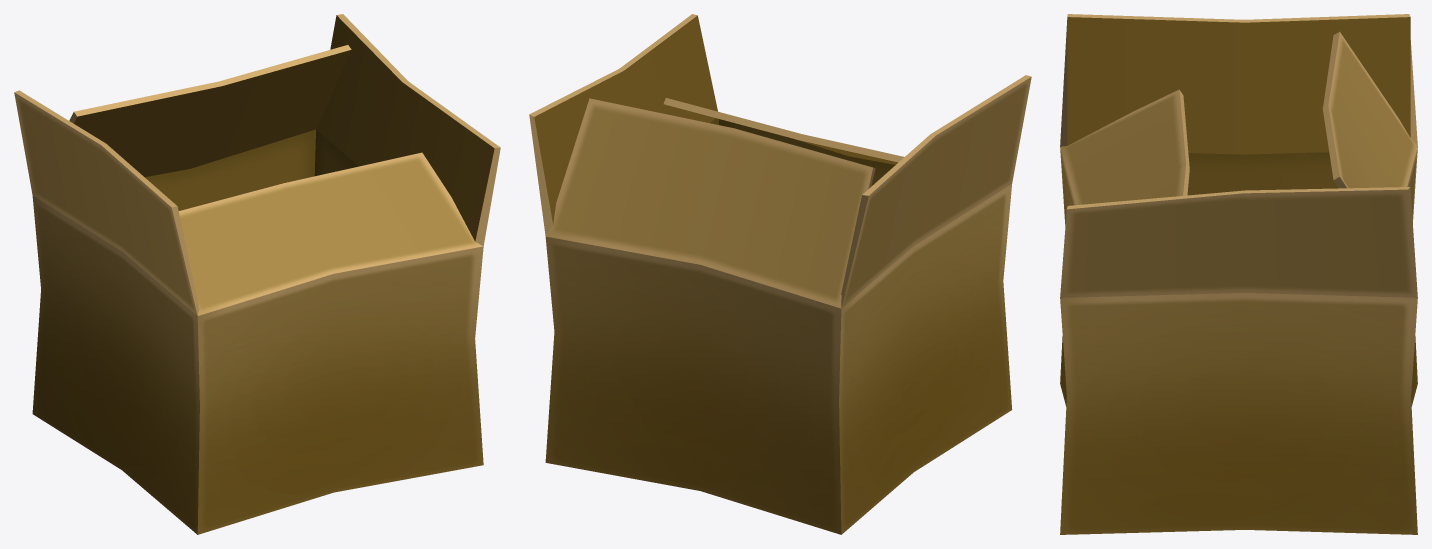
Rendered from prop_GarbageBox01.fbx.
3 views of the same model, side by side, from view 1: azimuth 30°, elevation 25°; view 2: azimuth 150°, elevation 25°; view 3: azimuth 270°, elevation 25° (orthographic). The views are drawn at different scales.
Visible parts, largest first — view 1: prop_GarbageBox01; view 2: prop_GarbageBox01; view 3: prop_GarbageBox01.
Boxes of the visible parts, x1=… form: prop_GarbageBox01: x1=14, y1=14, x2=500, y2=534; prop_GarbageBox01: x1=529, y1=14, x2=1031, y2=534; prop_GarbageBox01: x1=1060, y1=14, x2=1417, y2=534.
Size of the model in its own units: 132 by 127 by 115.
